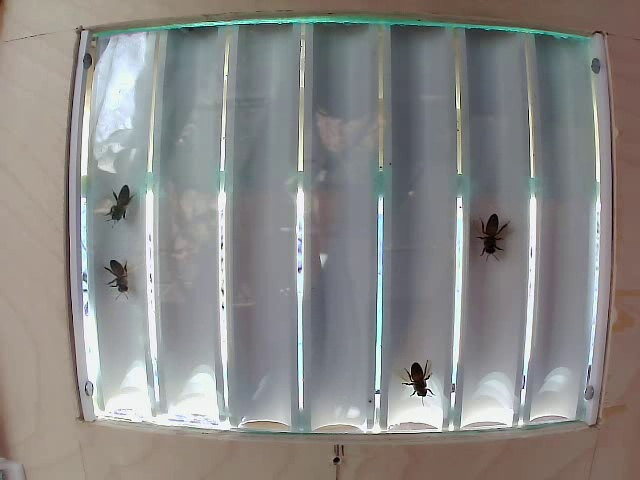bee: (401, 335, 441, 408), (92, 253, 144, 308), (471, 207, 513, 253), (107, 180, 147, 226)
